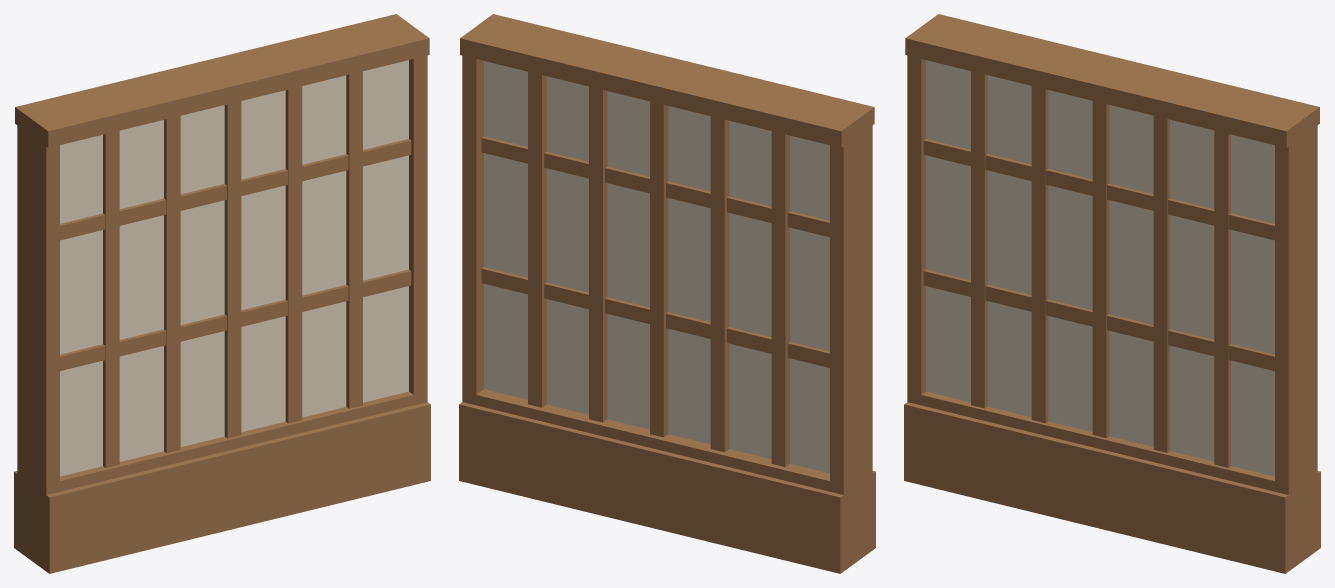
The model's file is quaternius-sushi-restaurant-wall-shoji-interior.glb.
3 views of the same model, side by side, from view 1: azimuth 30°, elevation 25°; view 2: azimuth 150°, elevation 25°; view 3: azimuth 330°, elevation 25° (orthographic).
Visible parts, largest first — view 1: Wall_Shoji_Interior; view 2: Wall_Shoji_Interior; view 3: Wall_Shoji_Interior.
Part boxes in pixels (bbox=[...]): Wall_Shoji_Interior: bbox=[14, 14, 430, 573]; Wall_Shoji_Interior: bbox=[459, 14, 875, 573]; Wall_Shoji_Interior: bbox=[904, 14, 1320, 573].
Bounding box in the file's own units: 4 × 4.43 × 0.6442.
Materials: 2 (1 with a texture image).
